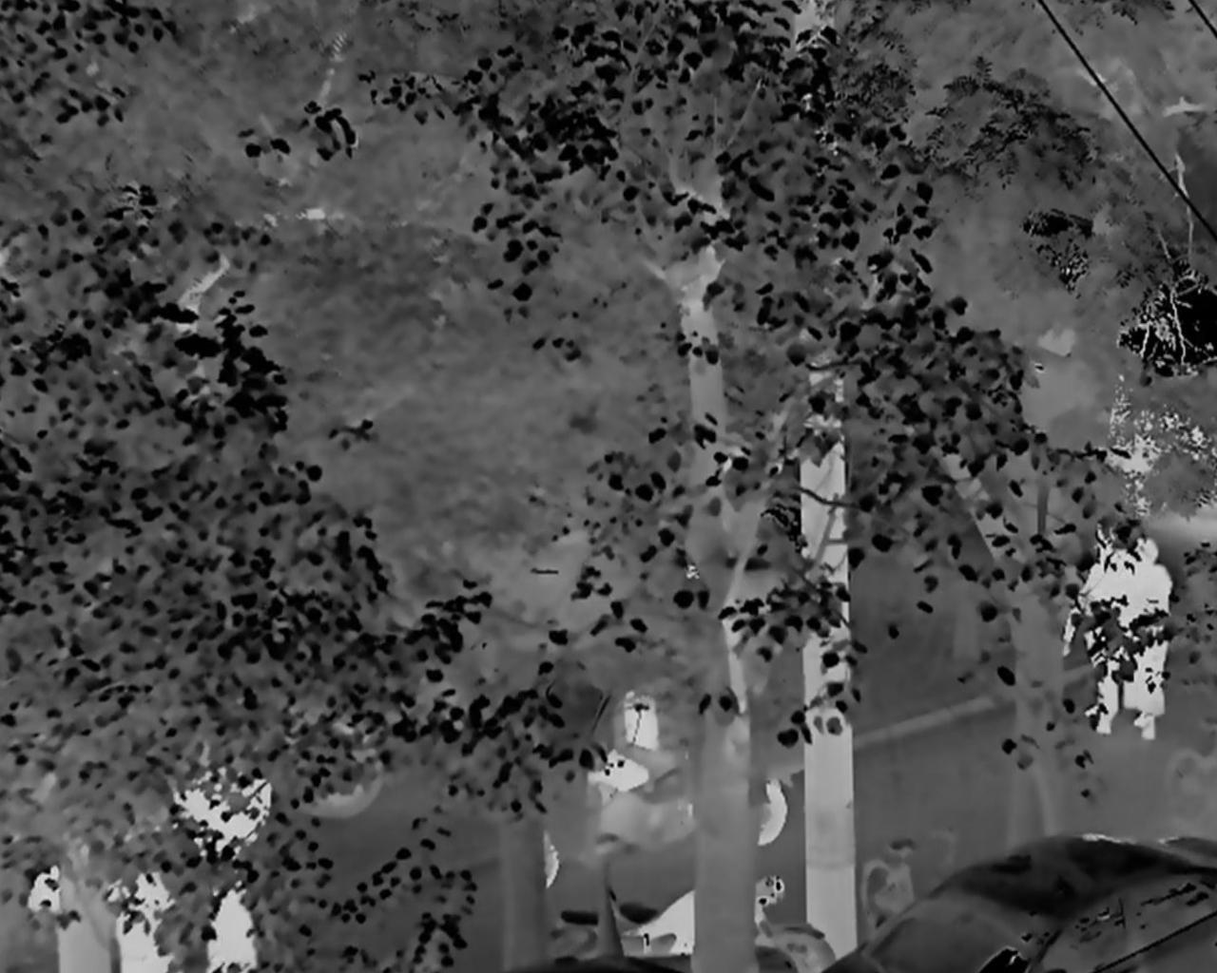person: (1064, 525, 1119, 734), (1122, 534, 1169, 739), (115, 873, 174, 973), (206, 880, 256, 973)
